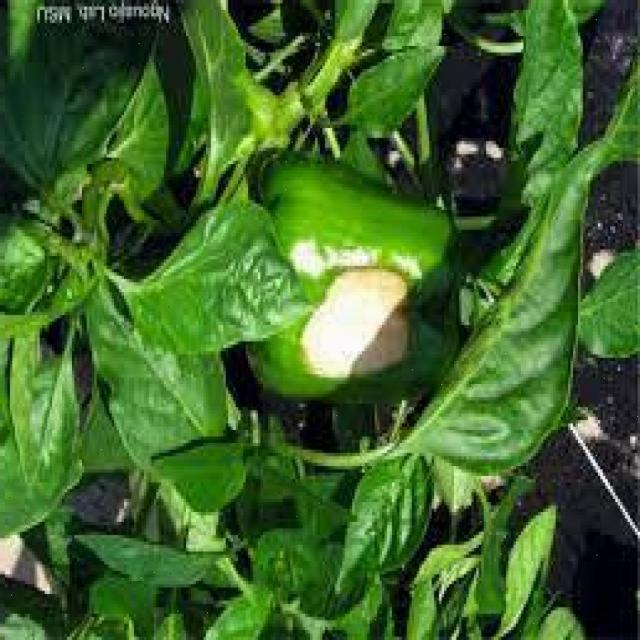Sunscald Fruit: (129, 94, 289, 343)
